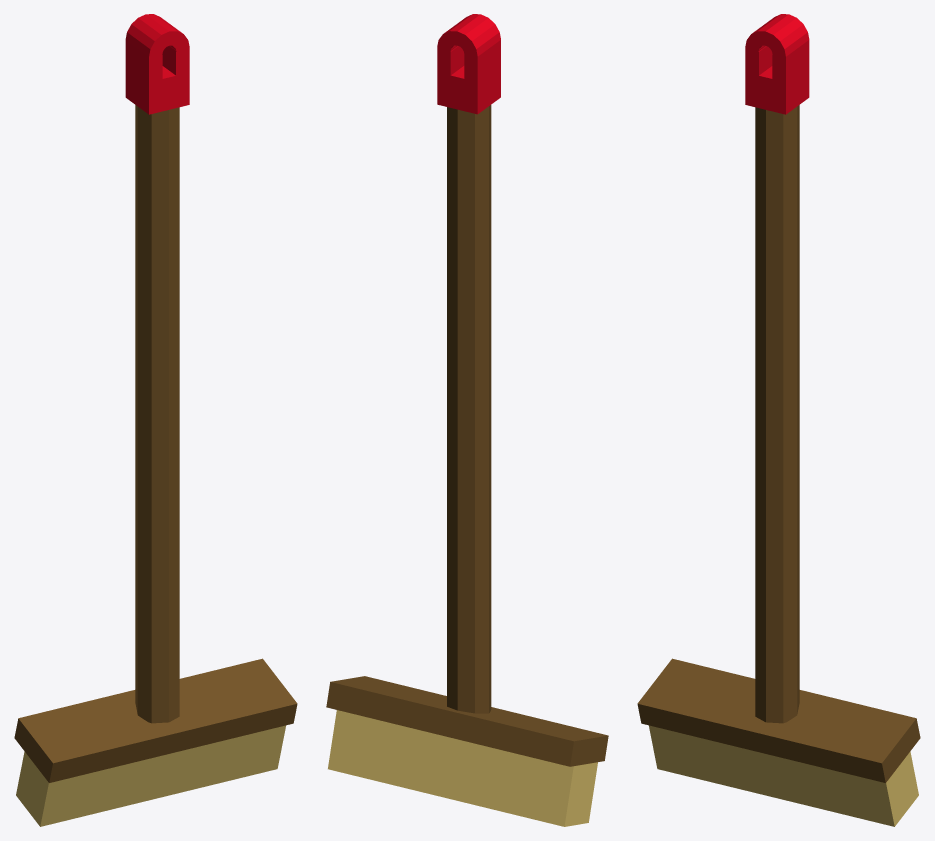
Rendered from bezem.fbx.
3 renders of one model, left to right at view 1: azimuth 30°, elevation 25°; view 2: azimuth 150°, elevation 25°; view 3: azimuth 330°, elevation 25°, orthographic.
Visible parts, largest first — view 1: Cylinder, Cube.001, Cube.002, Cube; view 2: Cylinder, Cube.002, Cube.001, Cube; view 3: Cylinder, Cube.001, Cube.002, Cube.
Part boxes in pixels (x1,y1,x2,y2): Cylinder: (135, 105, 179, 723); Cube.001: (14, 658, 297, 782); Cube.002: (16, 725, 285, 826); Cube: (125, 14, 189, 114); Cylinder: (447, 105, 491, 713); Cube.002: (328, 710, 597, 826); Cube.001: (326, 676, 608, 766); Cube: (437, 14, 500, 114); Cylinder: (755, 105, 799, 723); Cube.001: (637, 658, 920, 782); Cube.002: (649, 725, 918, 826); Cube: (745, 14, 809, 114).
Size of the model in its own units: 21.24 by 64.28 by 6.13.
